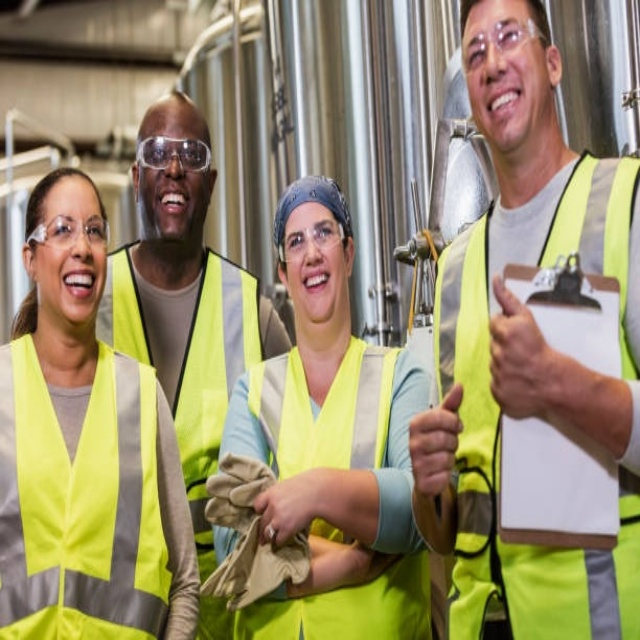Gafas: (463, 16, 545, 70), (135, 136, 212, 173), (27, 216, 110, 250), (280, 220, 348, 261)
Sin_guantes: (484, 274, 557, 419), (406, 378, 465, 501), (247, 474, 315, 551)
Sin_mascara: (479, 80, 525, 138), (56, 265, 101, 314), (297, 265, 334, 309), (154, 184, 189, 224)
